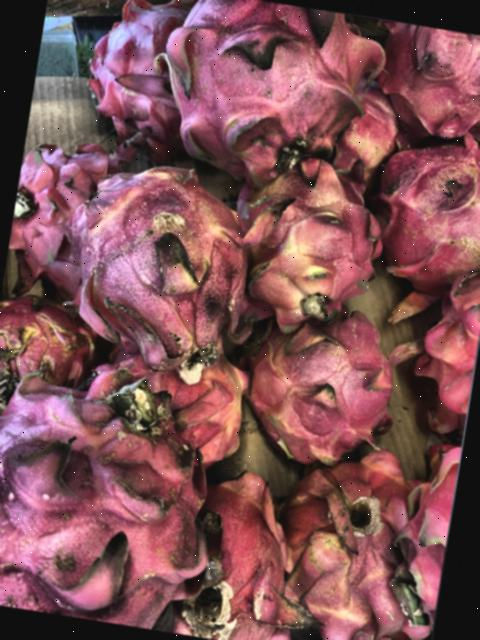buah-naga-belum-matang: (217, 154, 400, 346)
buah-naga-matang: (0, 366, 232, 636), (38, 160, 268, 394), (154, 0, 371, 180), (241, 451, 442, 640), (233, 303, 415, 477), (2, 130, 138, 310), (356, 134, 480, 293), (367, 20, 480, 148)
